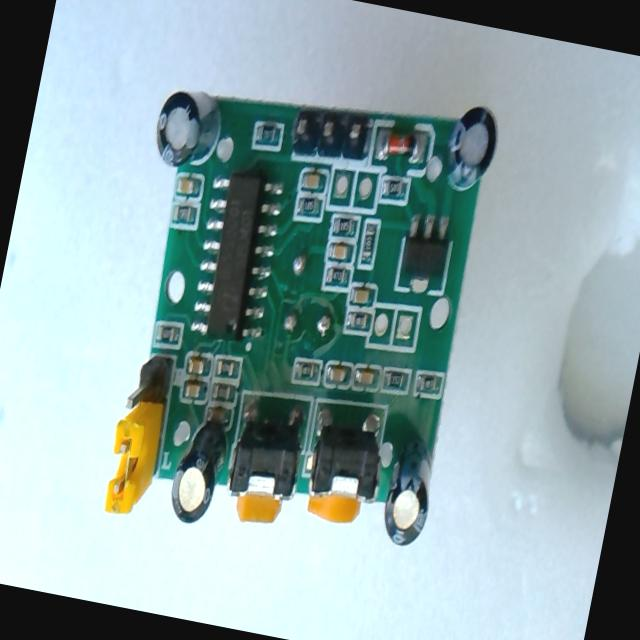Electrolytic capacitor: (144, 68, 228, 188), (164, 414, 232, 531), (437, 96, 508, 204), (378, 436, 442, 550)
IC: (182, 166, 292, 347)
pinheader: (280, 94, 378, 178)
